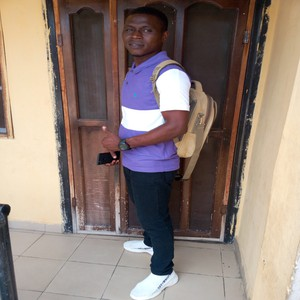Fulokoja_male_student: (110, 11, 184, 292)
